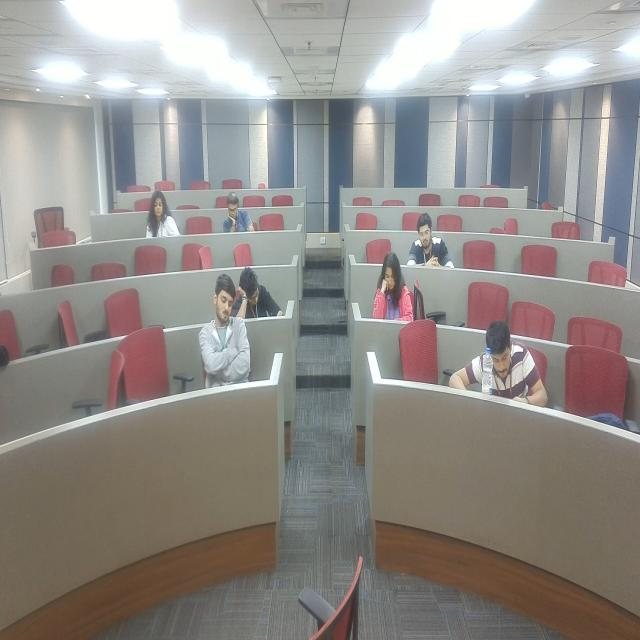non-cheating: (466, 305, 552, 456), (195, 270, 262, 416), (238, 244, 285, 336), (374, 253, 412, 336)
